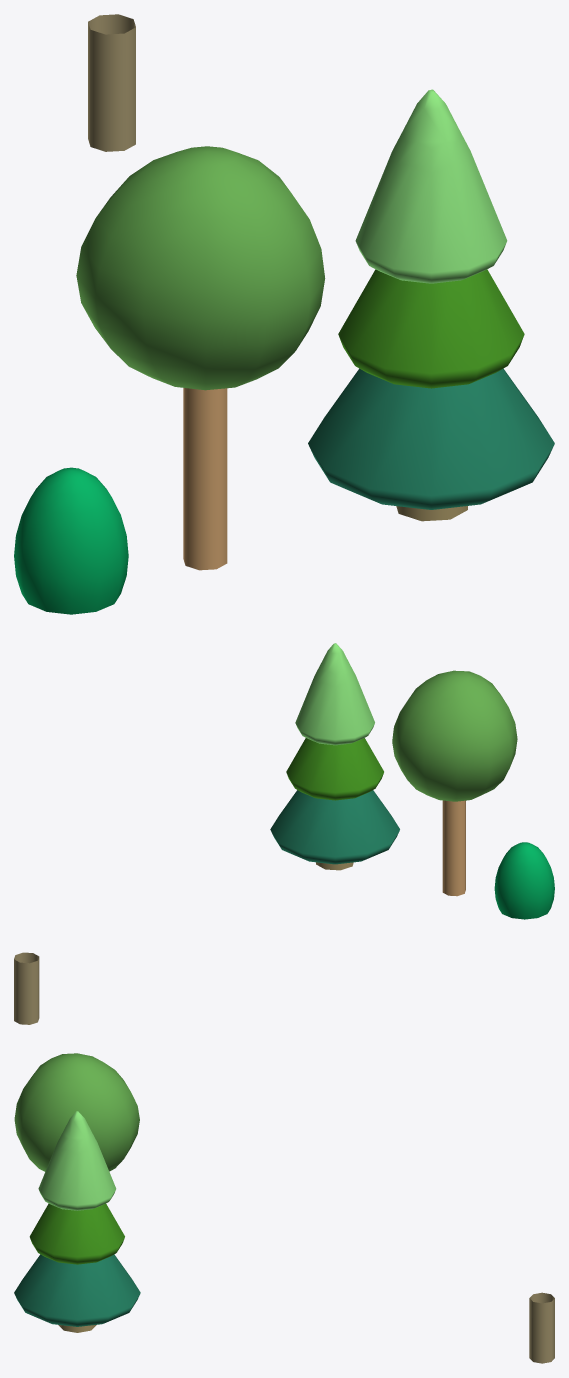
The model's file is tree - Copy.fbx.
3 renders of one model, top to bottom at view 1: azimuth 30°, elevation 25°; view 2: azimuth 150°, elevation 25°; view 3: azimuth 270°, elevation 25°, orthographic. The views are drawn at different scales.
Parts seen in each view (by area): view 1: pCylinder17, pSphere12, pSphere1, pCylinder5; view 2: pCylinder17, pSphere12, pSphere1, pCylinder5; view 3: pCylinder17, pSphere12, pCylinder5.
Part boxes in pixels (x1=…): pCylinder17: x1=308, y1=89, x2=554, y2=521; pSphere12: x1=76, y1=146, x2=325, y2=570; pSphere1: x1=14, y1=467, x2=128, y2=614; pCylinder5: x1=88, y1=14, x2=135, y2=151; pCylinder17: x1=270, y1=643, x2=399, y2=870; pSphere12: x1=392, y1=670, x2=517, y2=896; pSphere1: x1=494, y1=842, x2=554, y2=919; pCylinder5: x1=14, y1=952, x2=39, y2=1024; pCylinder17: x1=14, y1=1111, x2=140, y2=1332; pSphere12: x1=14, y1=1053, x2=139, y2=1171; pCylinder5: x1=529, y1=1292, x2=554, y2=1363.
Bounding box in the file's own units: 372 × 261 × 601.
